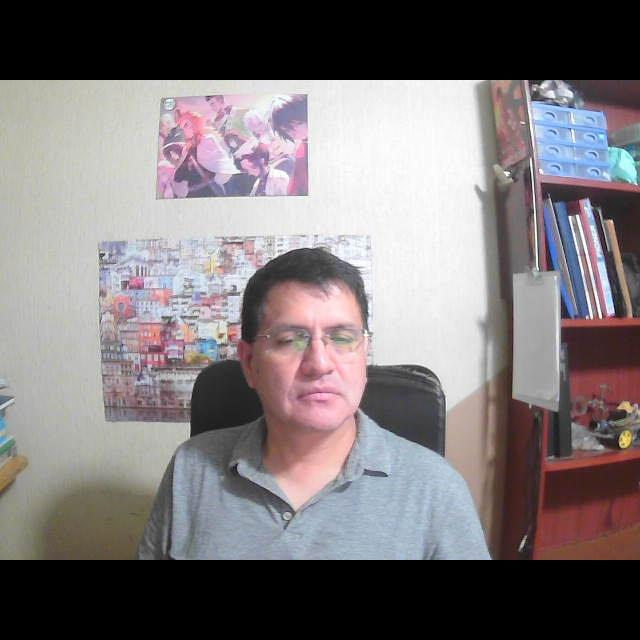cesar: (230, 234, 386, 450)
